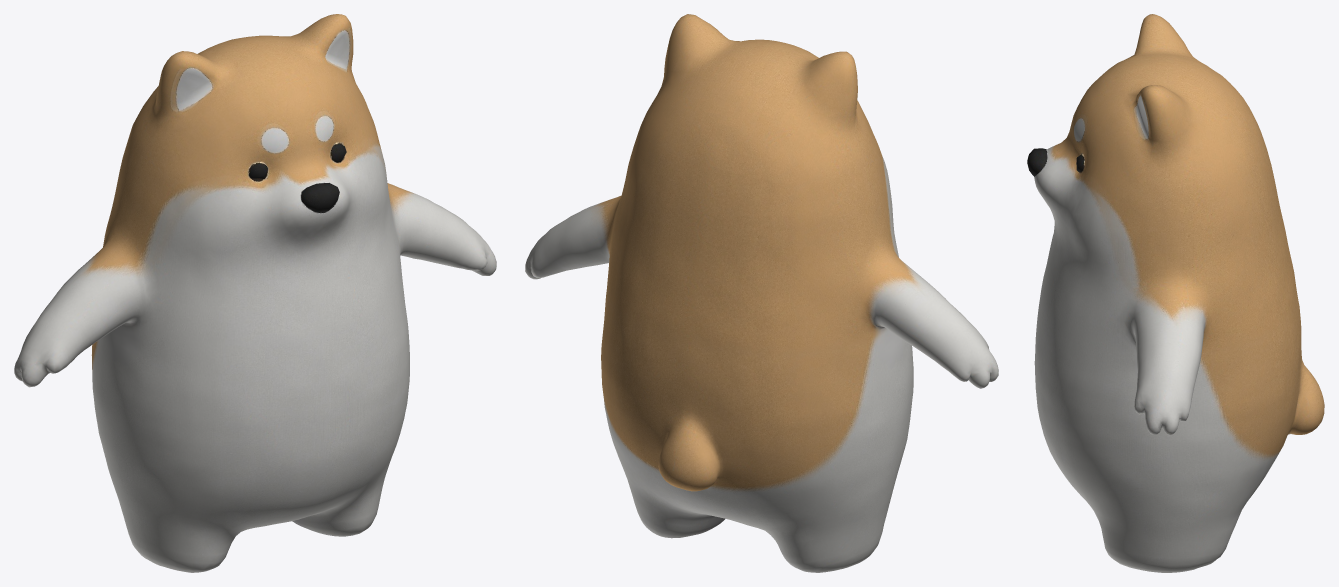
The picture shows the model from 3 angles, left to right: view 1: azimuth 30°, elevation 25°; view 2: azimuth 150°, elevation 25°; view 3: azimuth 270°, elevation 25°; orthographic projection. The views are drawn at different scales.
Visible parts, largest first — view 1: tripo_node_efaf2393; view 2: tripo_node_efaf2393; view 3: tripo_node_efaf2393.
Part boxes in pixels (x1,y1,x2,y2): tripo_node_efaf2393: (14, 14, 496, 572); tripo_node_efaf2393: (525, 14, 998, 572); tripo_node_efaf2393: (1027, 14, 1324, 572).
Size of the model in its own units: 1.95 by 2 by 1.13.
Materials: 1 (1 with a texture image).
